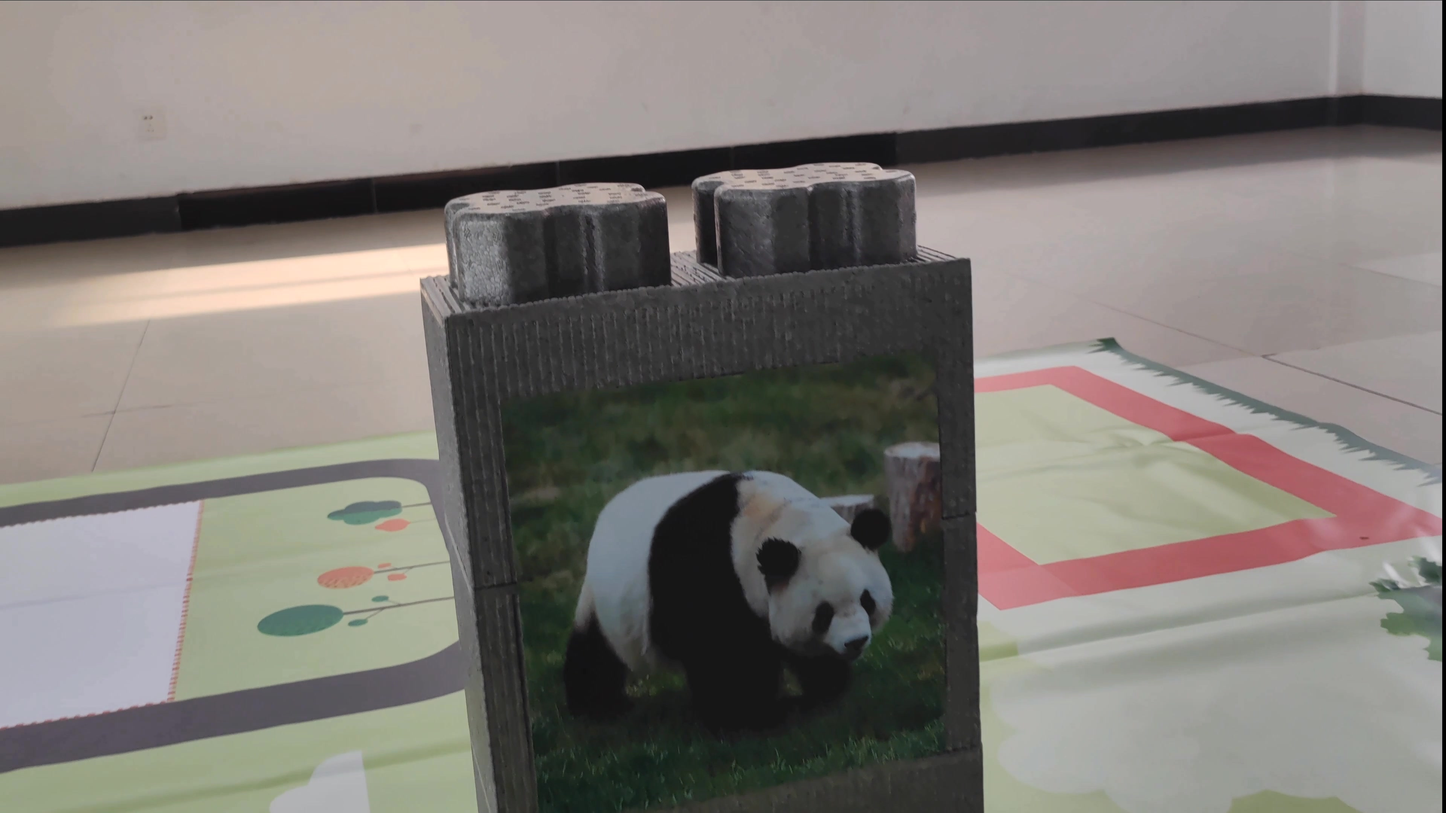panda: (528, 418, 920, 736)
